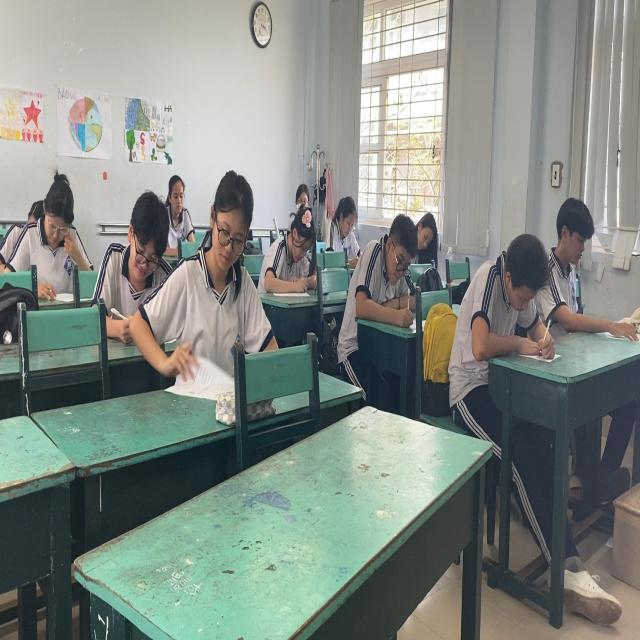not_cheating: (179, 174, 263, 367), (463, 216, 552, 356), (341, 208, 420, 326), (543, 181, 605, 322), (26, 164, 90, 284), (100, 184, 171, 287), (265, 206, 321, 280), (321, 177, 360, 253), (164, 164, 198, 246), (410, 185, 438, 253)
